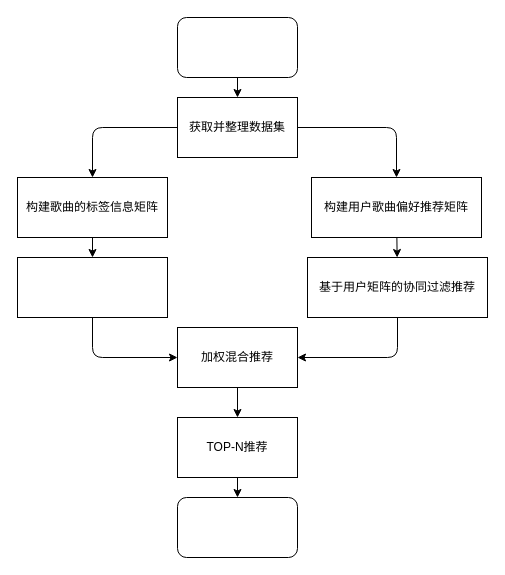
Some shapes in this 505 by 575 pixel diagram are drawn without their labels. The centre of each missing label's shape, as x and y in pixels:
"基于内容的歌曲推荐" goes at point 92,287.
"开始" goes at point 237,47.
"结束" goes at point 237,527.
